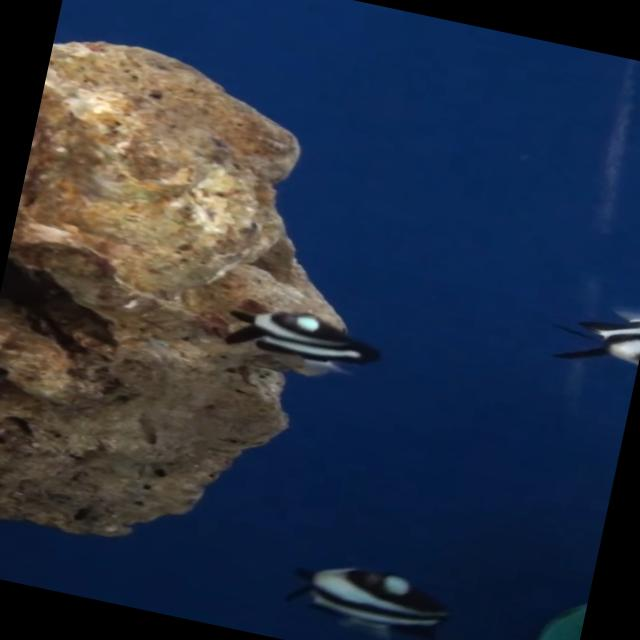ThreeStripedDamselfish: (285, 567, 448, 640), (222, 310, 379, 375)
